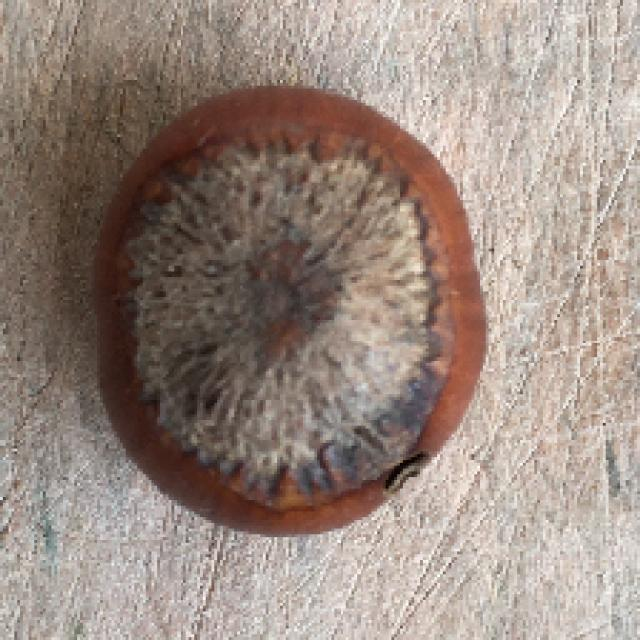qualityHazelnut: (84, 82, 488, 555)
